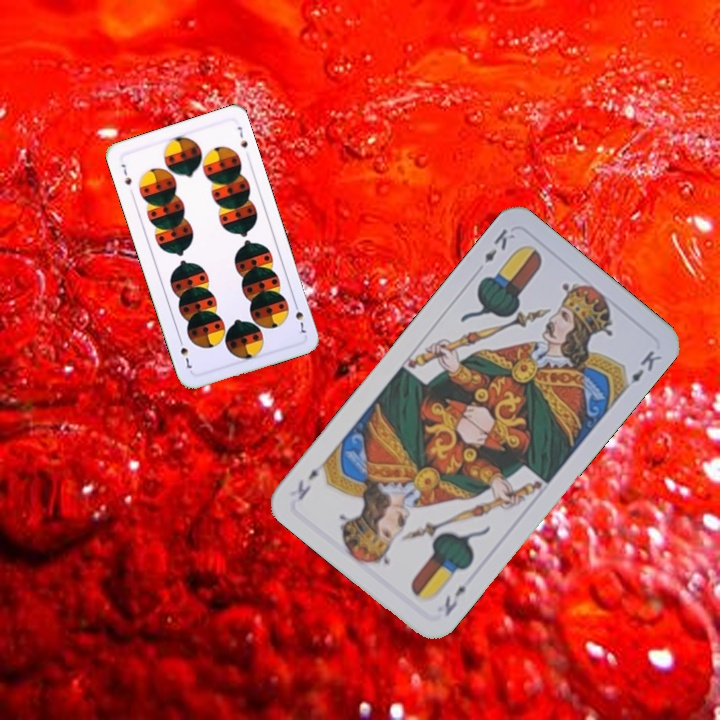EK: (480, 224, 518, 266), (440, 581, 469, 619)
S7: (290, 298, 309, 336), (117, 160, 134, 188)
